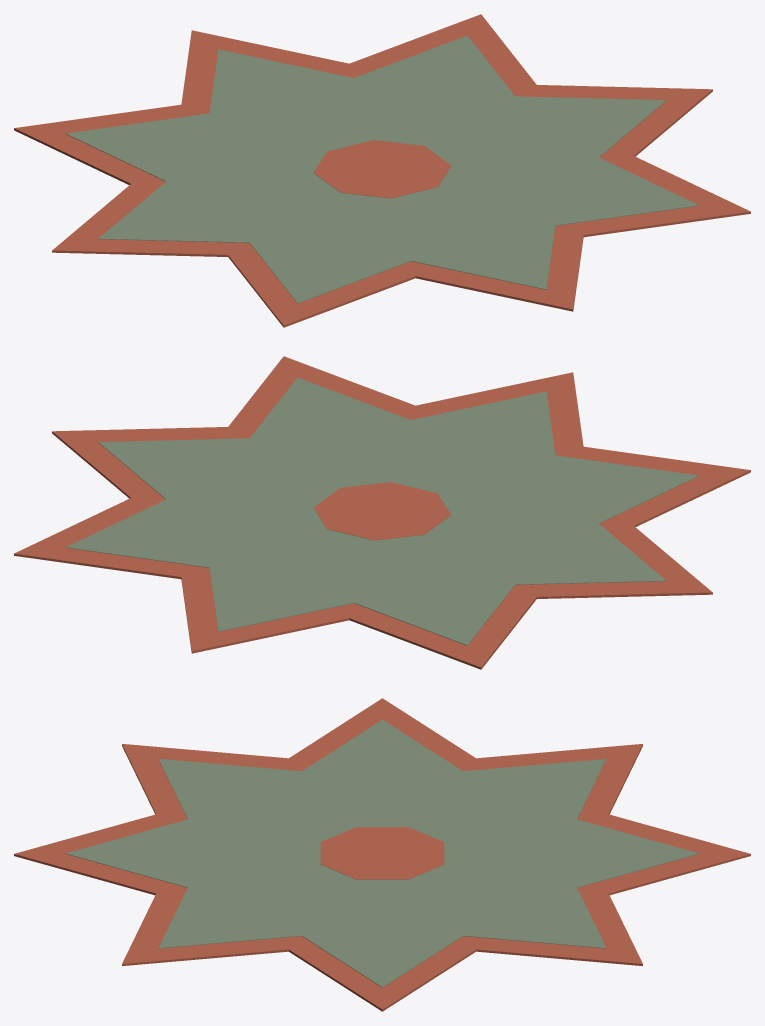
The model's file is terra-rug-star.glb.
3 views of the same model, one above another, from view 1: azimuth 30°, elevation 25°; view 2: azimuth 150°, elevation 25°; view 3: azimuth 270°, elevation 25° (orthographic). The views are drawn at different scales.
Parts seen in each view (by area): view 1: terra__rug_star; view 2: terra__rug_star; view 3: terra__rug_star.
Boxes of the visible parts, x1,y1,x2,y2 form: terra__rug_star: [14, 14, 750, 327]; terra__rug_star: [14, 356, 750, 669]; terra__rug_star: [14, 698, 750, 1011].
Bounding box in the file's own units: 3.1 × 0.013 × 3.1.
